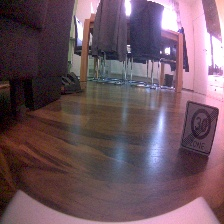dreisiger_zone_ende: (179, 99, 220, 159)
